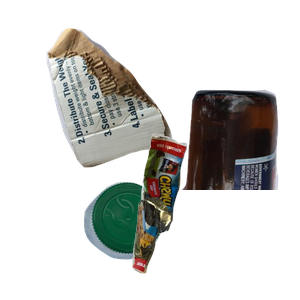cardboard: (44, 26, 209, 186)
glass: (87, 87, 300, 267)
plastic: (81, 179, 239, 300)
trash: (130, 131, 300, 300)
